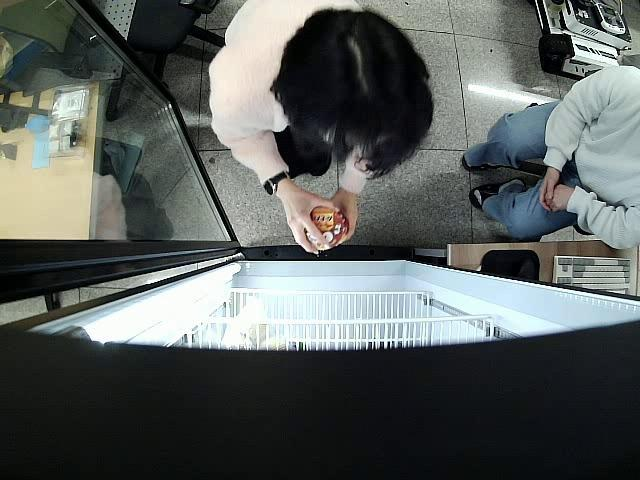06_nuguri_S: (301, 204, 350, 250)
